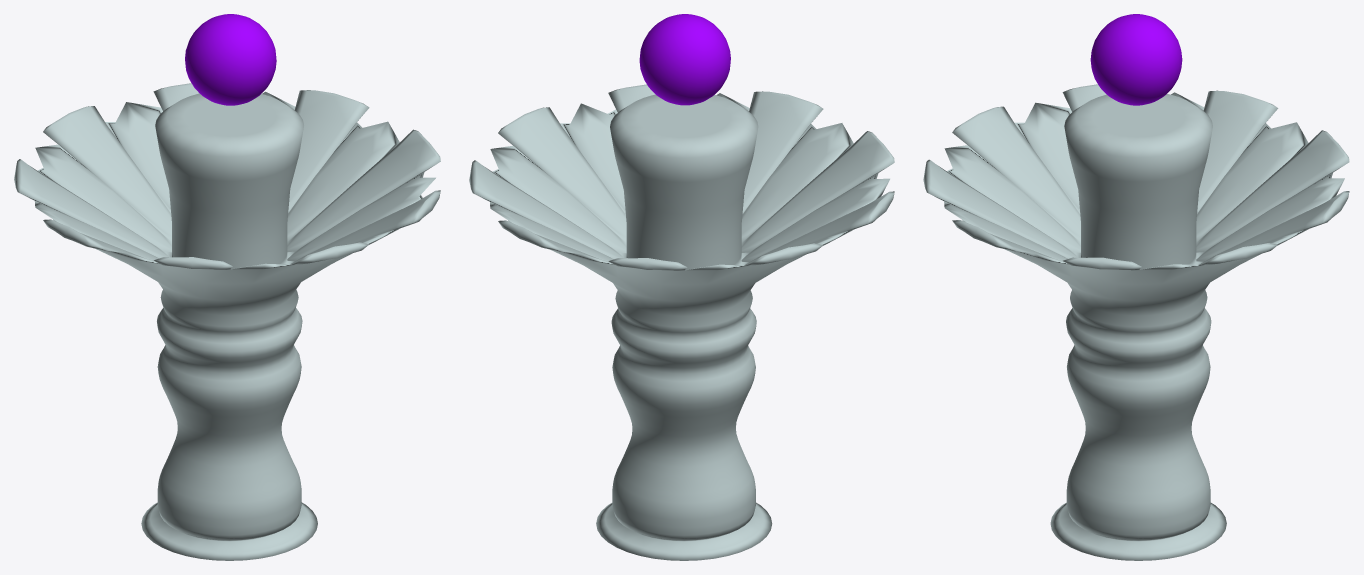
Rendered from prop_Artifact.FBX.
The picture shows the model from 3 angles, left to right: view 1: azimuth 30°, elevation 25°; view 2: azimuth 150°, elevation 25°; view 3: azimuth 270°, elevation 25°; orthographic projection.
Visible parts, largest first — view 1: Cylinder01, Sphere01; view 2: Cylinder01, Sphere01; view 3: Cylinder01, Sphere01.
Part boxes in pixels (bbox=[...]): Cylinder01: bbox=[14, 83, 440, 560]; Sphere01: bbox=[185, 14, 276, 105]; Cylinder01: bbox=[469, 84, 894, 560]; Sphere01: bbox=[639, 14, 730, 105]; Cylinder01: bbox=[923, 84, 1349, 560]; Sphere01: bbox=[1090, 14, 1182, 105].
Bounding box in the file's own units: 57.73 × 75.3 × 57.35.
